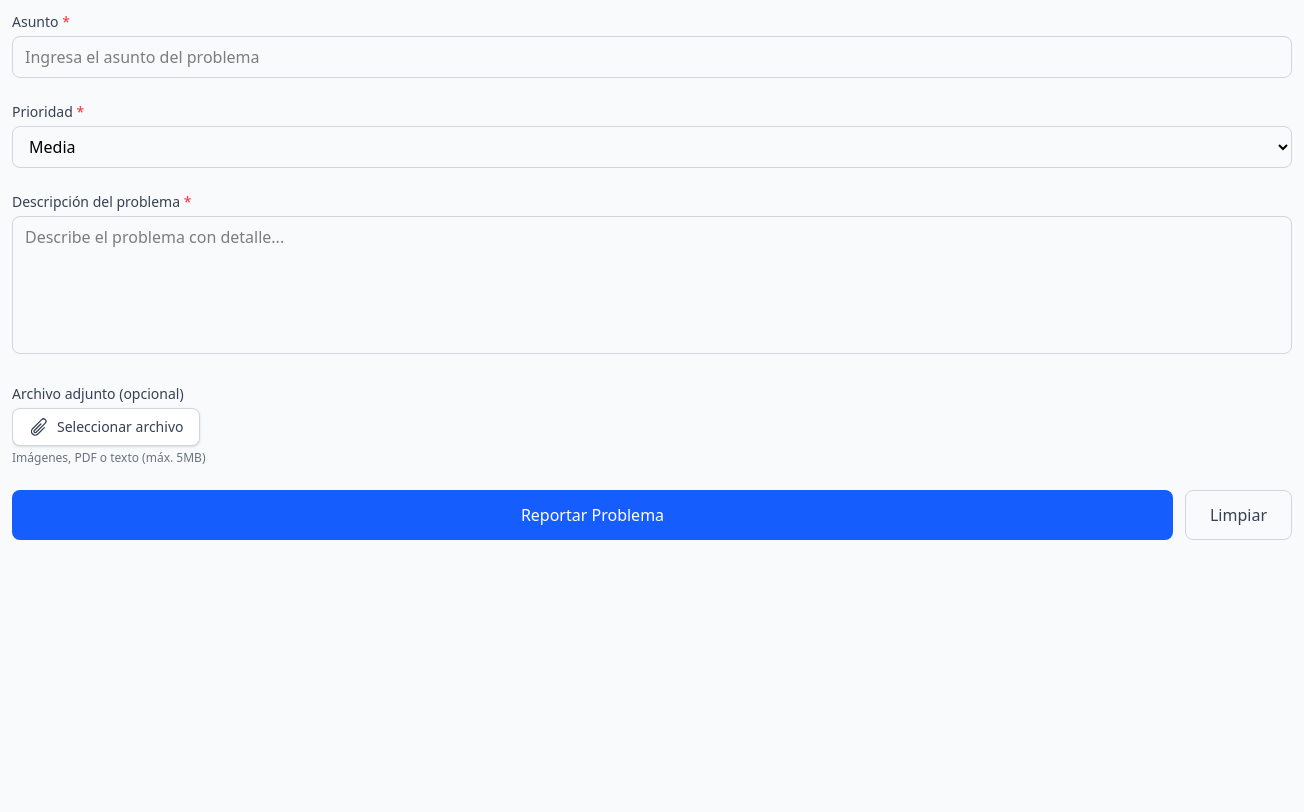
Scenario: TicketForm › validates required fields on submit
// Submit empty form
Click the button "Reportar Problema" at (592, 515), box top-left (12, 490), bottom-right (1173, 540)
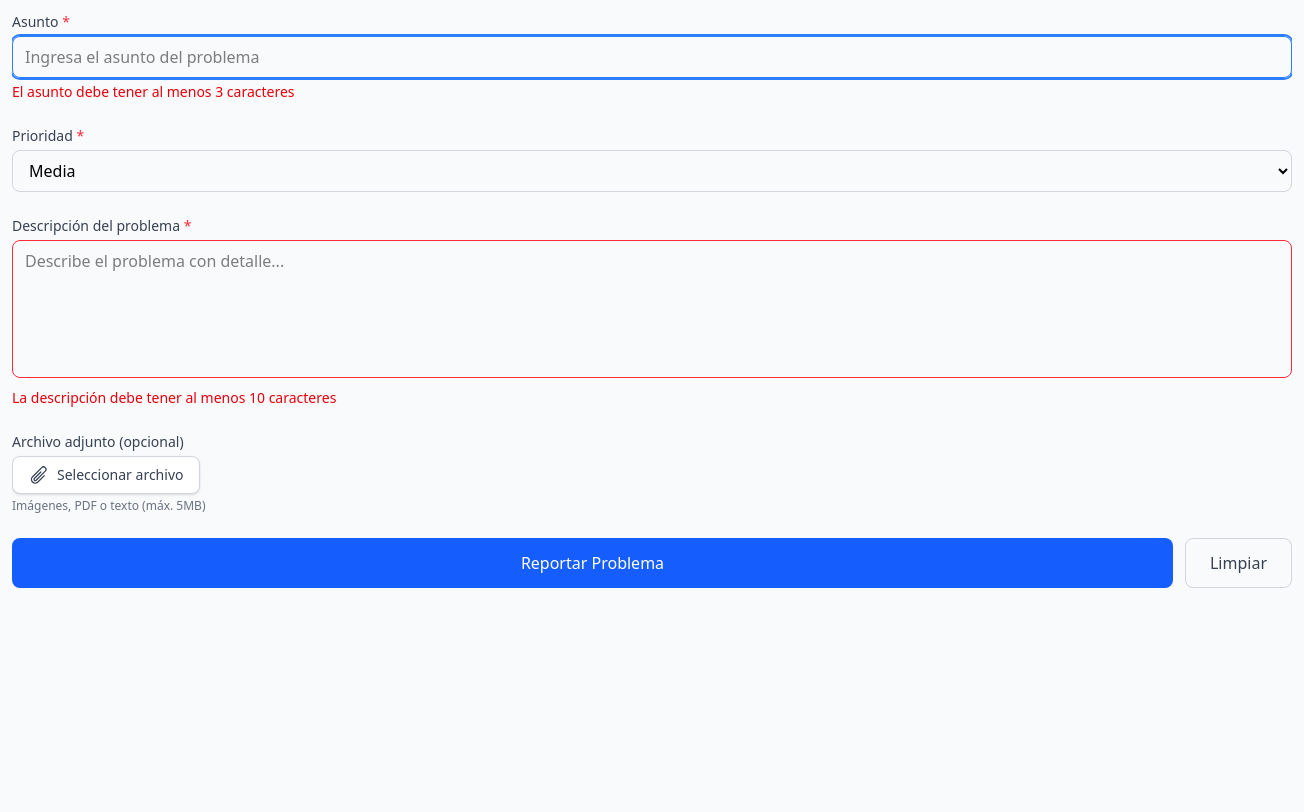
Expected: the text "El asunto debe tener al menos 3 caracteres" is shown, top-left (12, 82), bottom-right (295, 101)
Expected: the text "La descripción debe tener al menos 10 caracteres" is shown, top-left (12, 388), bottom-right (336, 407)
